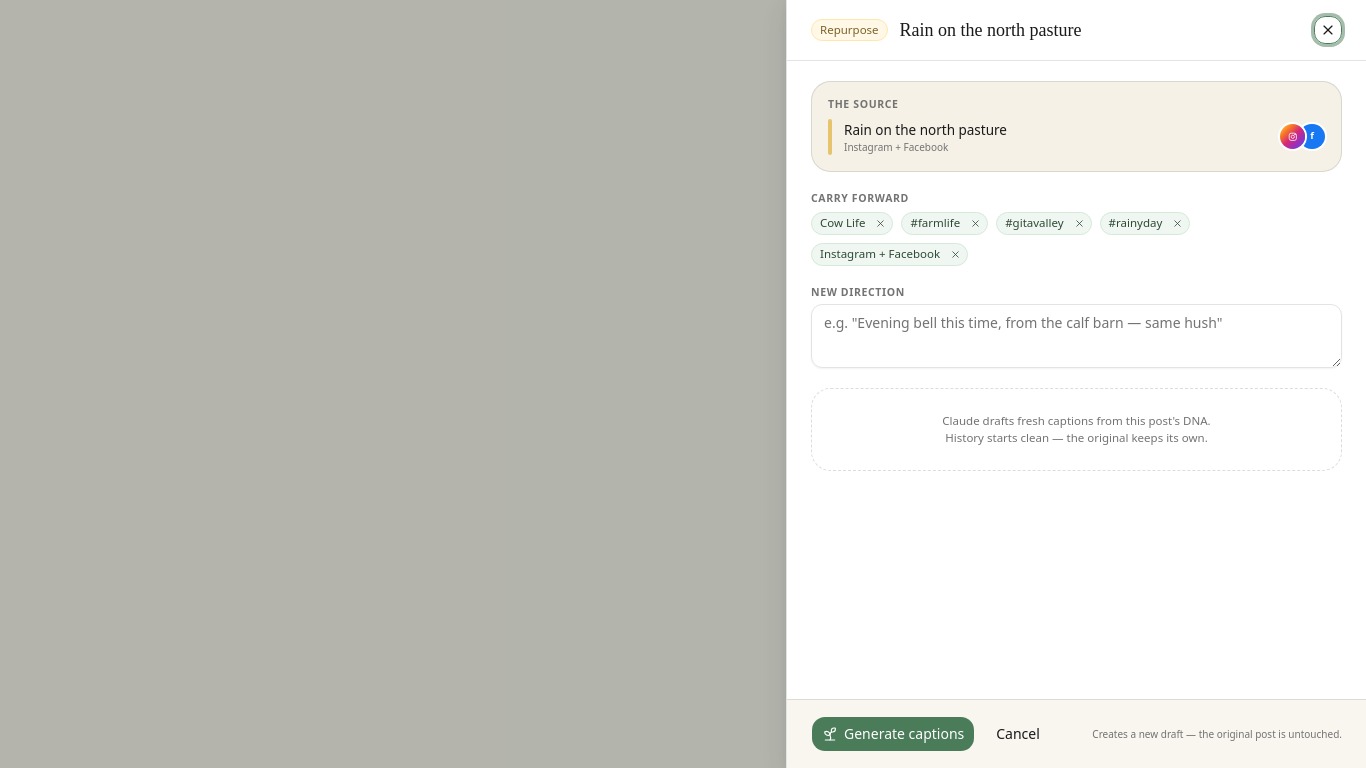
Test: ContentEditorSheet — repurpose mode › shows the source post, seeded carry-forward chips, and the explainer
expect the text "Repurpose" is shown: met, box [820,22,879,38]
expect the text "The source" is shown: met, box [828,97,899,111]
# Chips are removable
Click the button named "Remove" next to "Cow Life".
click(881, 224)  # box [874,216,888,231]
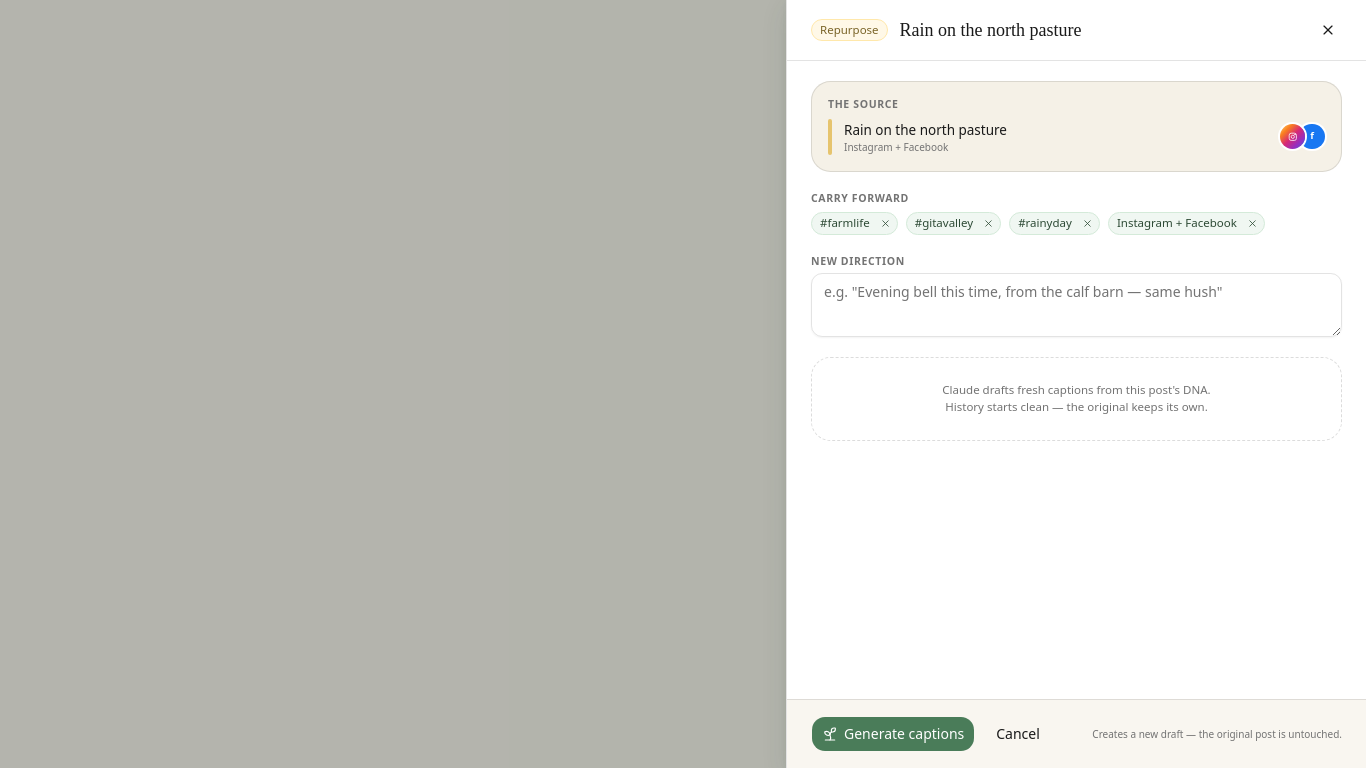
expect the text "Cow Life" is gone: met
